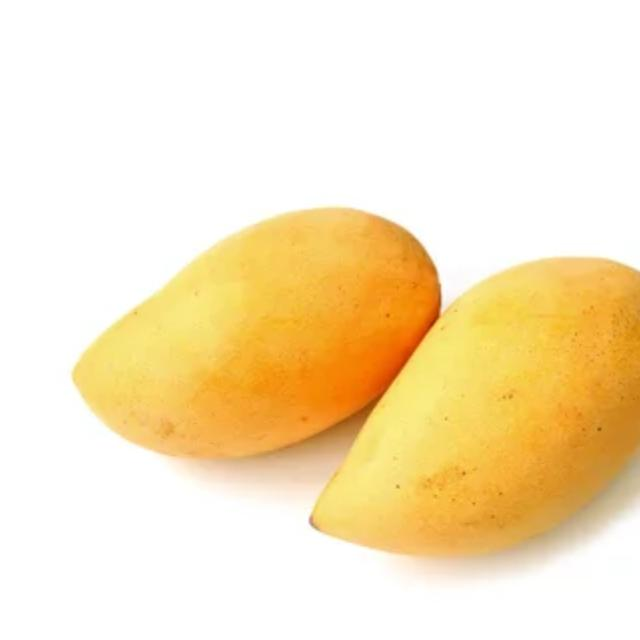mango: (306, 250, 640, 552), (71, 205, 443, 461)
